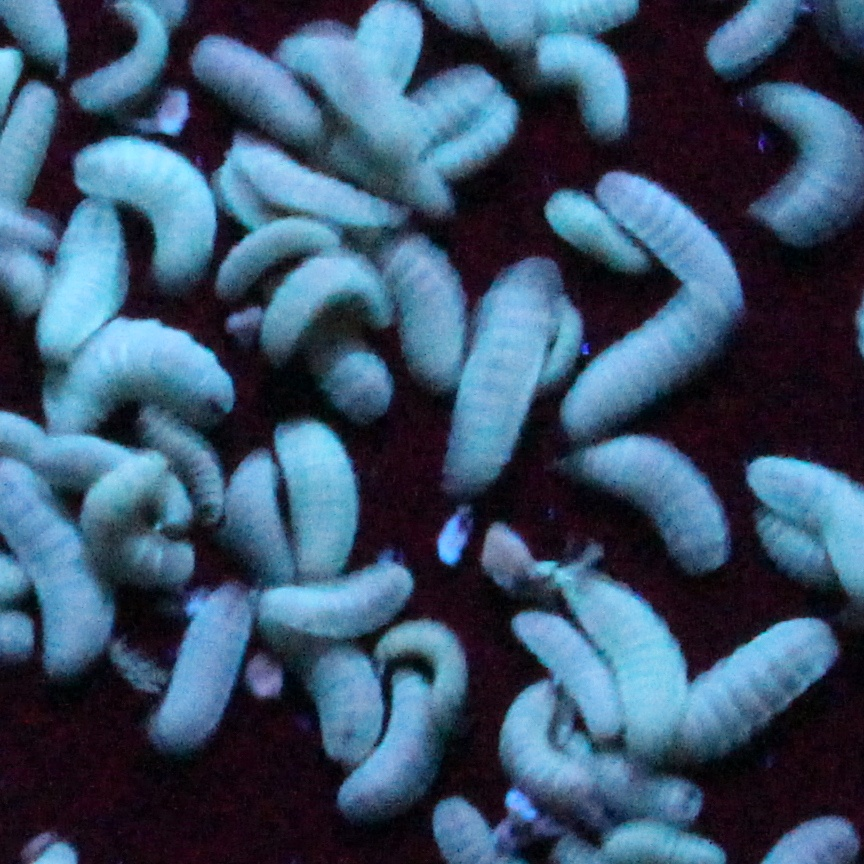larve: (29, 300, 239, 438), (439, 254, 553, 492), (652, 617, 848, 754), (555, 284, 729, 438), (62, 128, 226, 289), (588, 164, 745, 315), (139, 579, 261, 760), (259, 416, 386, 589), (573, 428, 726, 571), (332, 659, 444, 828), (503, 607, 640, 744), (259, 248, 398, 357), (247, 551, 414, 638), (391, 78, 503, 200), (188, 30, 322, 130), (526, 25, 639, 138), (537, 181, 658, 272)
